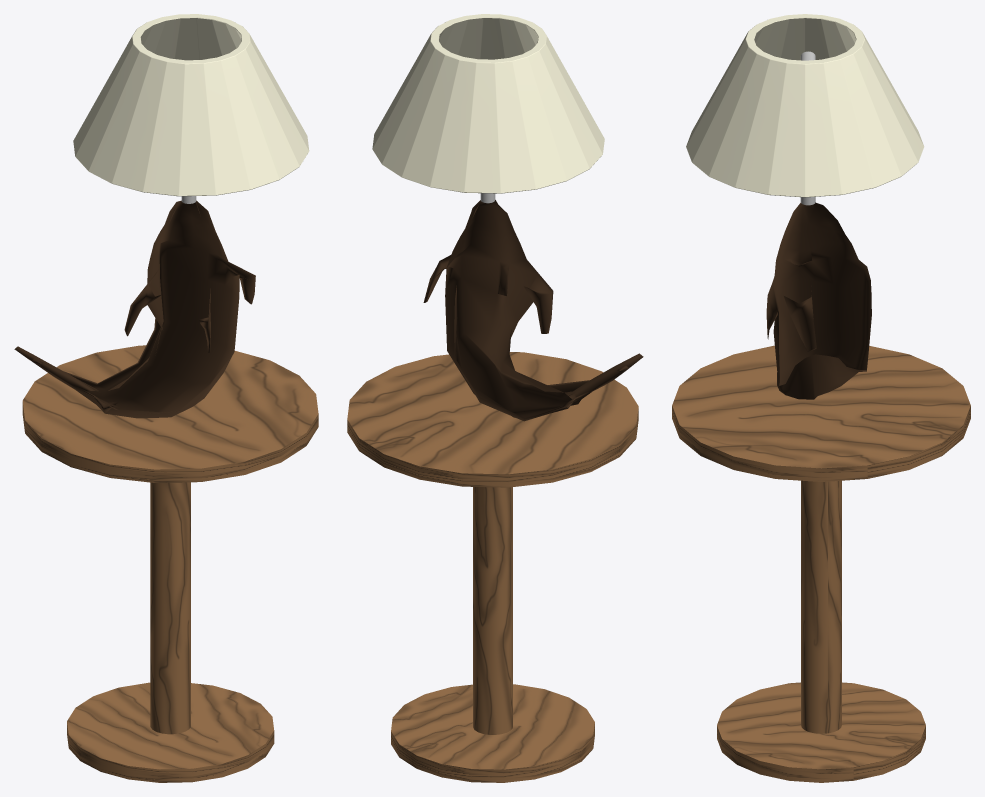
The model's file is fishLamp.obj.
The picture shows the model from 3 angles, left to right: view 1: azimuth 30°, elevation 25°; view 2: azimuth 150°, elevation 25°; view 3: azimuth 270°, elevation 25°; orthographic projection.
Visible parts, largest first — view 1: polySurface6; view 2: polySurface6; view 3: polySurface6.
Boxes of the visible parts, x1,y1,x2,y2 form: polySurface6: [14, 14, 318, 782]; polySurface6: [347, 14, 643, 782]; polySurface6: [672, 14, 970, 782].
Size of the model in its own units: 1.04 by 2.61 by 1.
